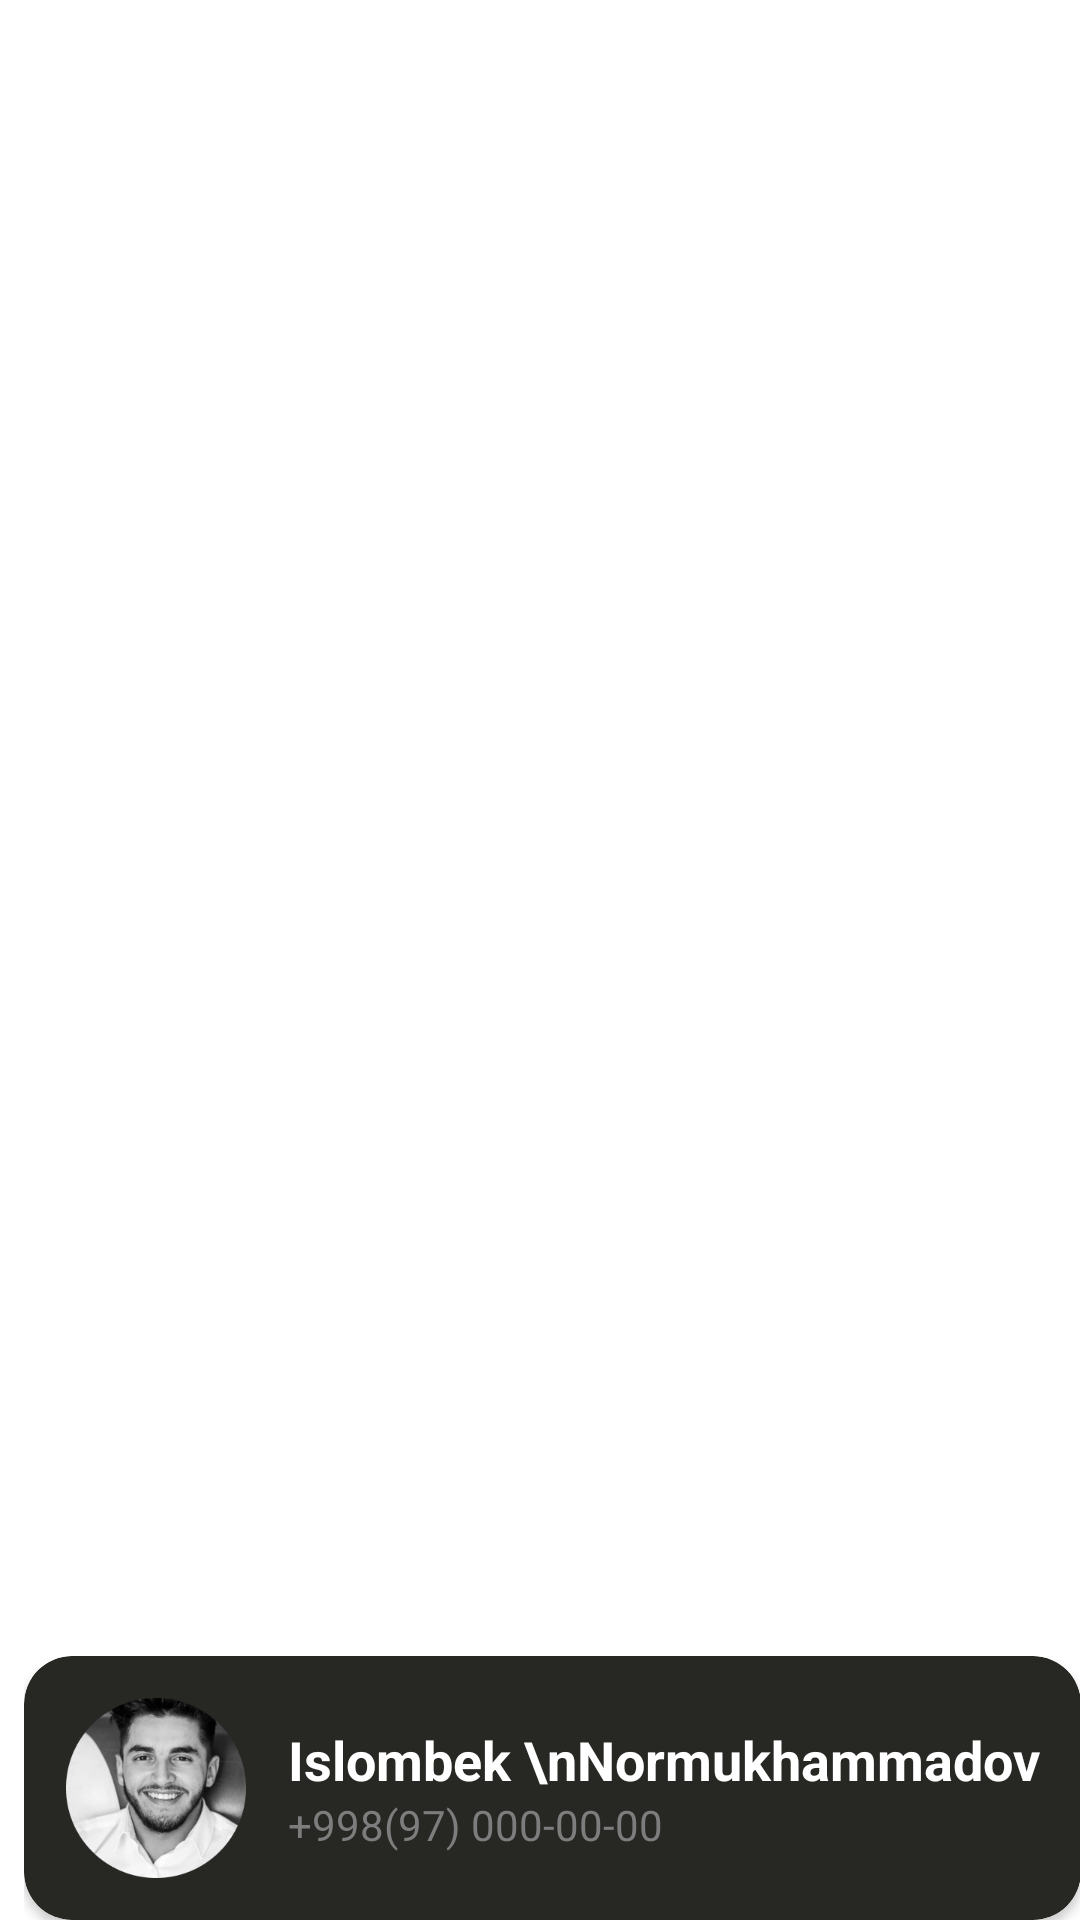

Screen size 1080 × 1920. Icon name, then its box in pixels as bbox=[x1, y1, x2, y2]:
profile: bbox=[66, 1698, 246, 1878]
